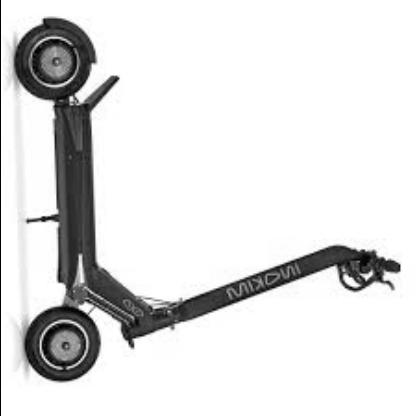bike: (16, 15, 413, 383)
